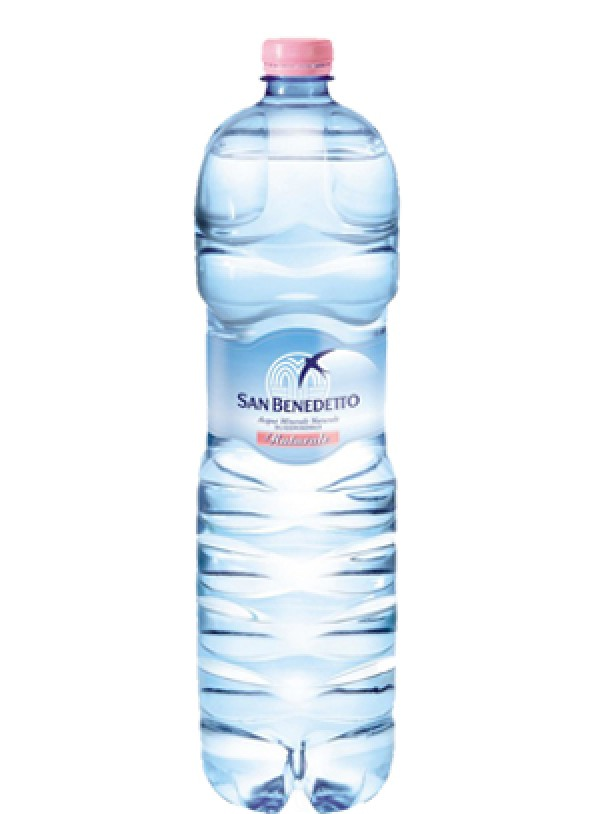PlasticBottle: (184, 29, 407, 812)
